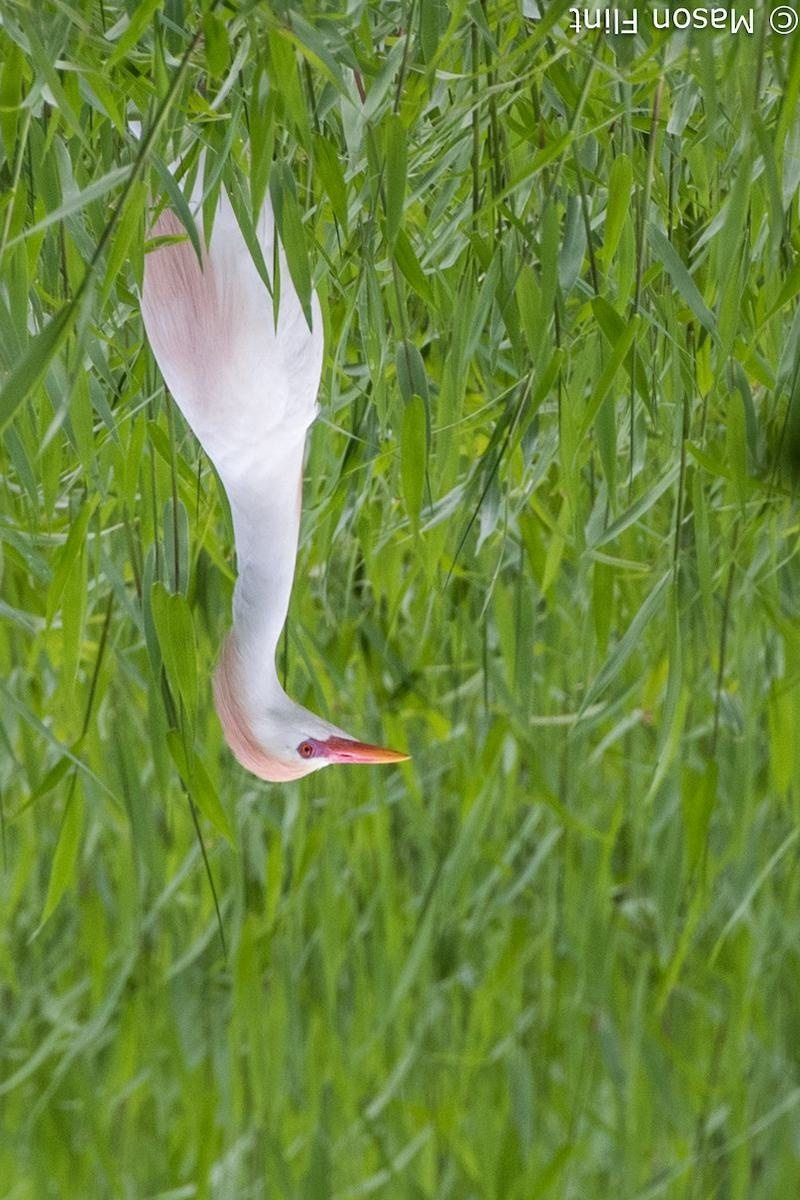egret: (129, 188, 425, 792)
